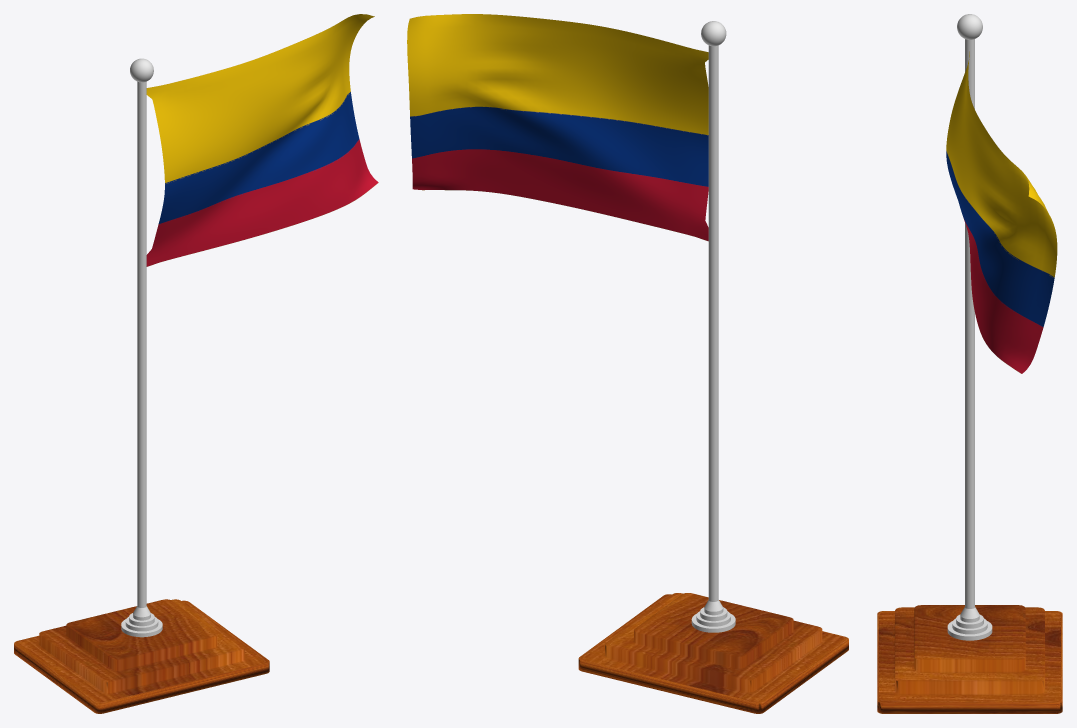
Rendered from colombia.glb.
3 renders of one model, left to right at view 1: azimuth 30°, elevation 25°; view 2: azimuth 150°, elevation 25°; view 3: azimuth 270°, elevation 25°, orthographic. The views are drawn at different scales.
Parts seen in each view (by area): view 1: Plane, Cube.001, Cylinder; view 2: Plane, Cube.001, Cylinder; view 3: Cube.001, Plane, Cylinder.
Part boxes in pixels (<box>): Plane: <box>146,14,378,266</box>; Cube.001: <box>14,599,269,713</box>; Cylinder: <box>121,58,162,637</box>; Plane: <box>407,14,708,241</box>; Cube.001: <box>578,593,848,713</box>; Cylinder: <box>691,21,735,632</box>; Cube.001: <box>877,605,1062,713</box>; Plane: <box>946,51,1057,373</box>; Cylinder: <box>947,14,992,640</box>.
Size of the model in its own units: 6.76 by 11.2 by 2.88.
3 materials, 2 textured.
